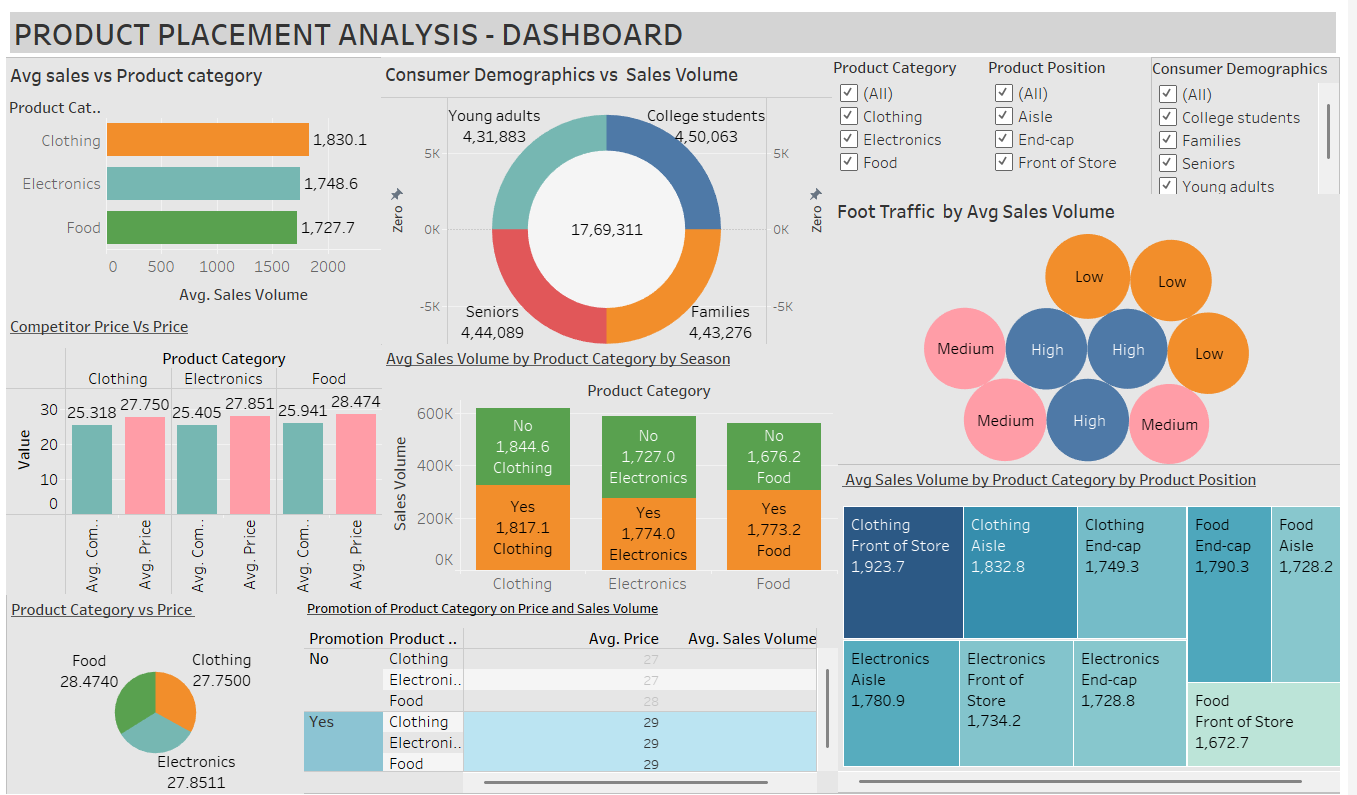

The page's visual inventory and layout, read from the dashboard file:
{"tool":"tableau","page":{"name":"Product Placement Analysis","canvas":[1000,1000],"units":"permille","ordinal":0},"visuals":[{"type":"title","box":[5.9,10,988.1,61.1]},{"type":"worksheet","title":"Consumer Demographics vs  Sales Volume","mark":"Pie","rows":["Calculation_1056657085735034885","Calculation_1056657085735034885"],"box":[283.7,71.1,334.8,359.1]},{"type":"filter","title":"Avg Sales Volume vs Product Category","param":"[federated.0c8d3wb0x9ahef1acfo481hiuxxl].[none:Product Category:nk]","box":[618.5,71.1,114.8,170.8]},{"type":"filter","title":" Avg Sales Volume by Product Category by Product Position","param":"[federated.0c8d3wb0x9ahef1acfo481hiuxxl].[none:Product Position:nk]","box":[733.3,71.1,120.7,170.8]},{"type":"worksheet","title":"Avg Sales Volume vs Product Category","mark":"Automatic","rows":["Product Category"],"cols":["Sales Volume"],"box":[5.9,72.3,277.8,316.7]},{"type":"filter","title":"Consumer Demographics vs  Sales Volume","param":"[federated.0c8d3wb0x9ahef1acfo481hiuxxl].[none:Consumer Demographics:nk]","box":[854.8,72.3,138.5,169.6]},{"type":"worksheet","title":"Foot Traffic  by Avg Sales Volume","mark":"Circle","box":[618.5,241.9,375.6,336.7]},{"type":"worksheet","title":"Competitor Price Vs Price","mark":"Automatic","cols":["Product Category"],"box":[5.9,389,279.3,352.9]},{"type":"worksheet","title":"Avg Sales Volume by Product Category by Season","mark":"Automatic","rows":["Sales Volume"],"cols":["Product Category"],"box":[284.4,428.9,337.8,313]},{"type":"worksheet","title":" Avg Sales Volume by Product Category by Product Position","mark":"Automatic","box":[622.2,579.8,371.9,407.7]},{"type":"worksheet","title":"Product Category vs Price ","mark":"Pie","box":[6.7,741.9,220,248.1]},{"type":"worksheet","title":"Promotion of Product Category on Price and Sales Volume","mark":"Automatic","rows":["Promotion","Product Category"],"box":[225.9,741.9,396.3,246.9]}]}

Visuals, with their boxes on the dashboard's canvas, which has no fixed pixel size, in thousandths of its width and height (x1, y1, x2, y2). These are canvas units, not pixel positions in the 1357x795 screenshot, which may show the page scaled, cropped or inside an application window:
title: locate(6, 10, 994, 71)
"Consumer Demographics vs  Sales Volume" worksheet (Pie marks): locate(284, 71, 618, 430)
"Avg Sales Volume vs Product Category" filter: locate(618, 71, 733, 242)
" Avg Sales Volume by Product Category by Product Position" filter: locate(733, 71, 854, 242)
"Avg Sales Volume vs Product Category" worksheet: locate(6, 72, 284, 389)
"Consumer Demographics vs  Sales Volume" filter: locate(855, 72, 993, 242)
"Foot Traffic  by Avg Sales Volume" worksheet (Circle marks): locate(618, 242, 994, 579)
"Competitor Price Vs Price" worksheet: locate(6, 389, 285, 742)
"Avg Sales Volume by Product Category by Season" worksheet: locate(284, 429, 622, 742)
" Avg Sales Volume by Product Category by Product Position" worksheet: locate(622, 580, 994, 988)
"Product Category vs Price " worksheet (Pie marks): locate(7, 742, 227, 990)
"Promotion of Product Category on Price and Sales Volume" worksheet: locate(226, 742, 622, 989)
